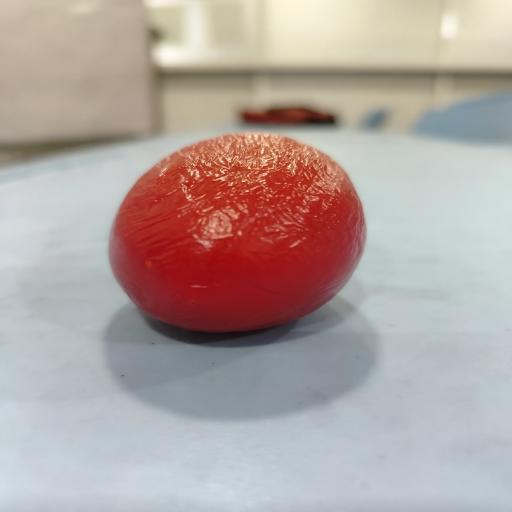spoiled: (109, 133, 366, 332)
